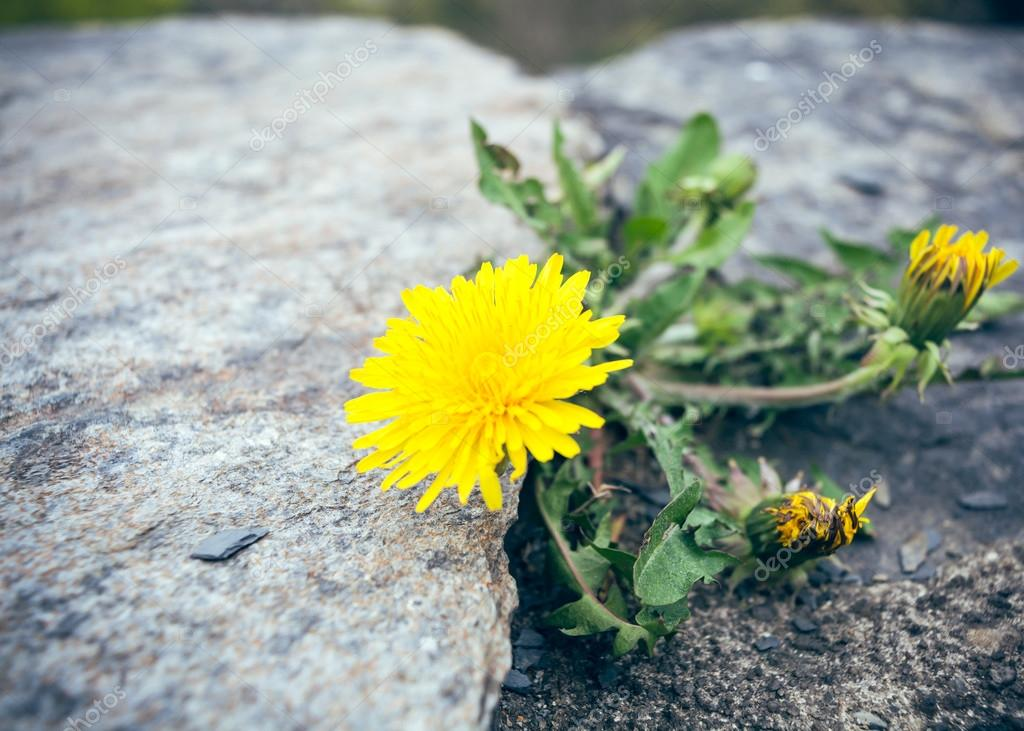dandelion: (356, 276, 613, 500)
